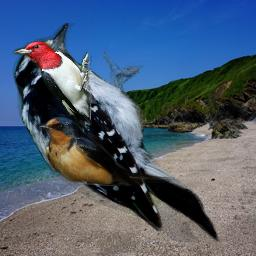Swallow: (38, 117, 176, 186)
Woodpecker: (10, 23, 223, 242), (11, 41, 95, 130)
